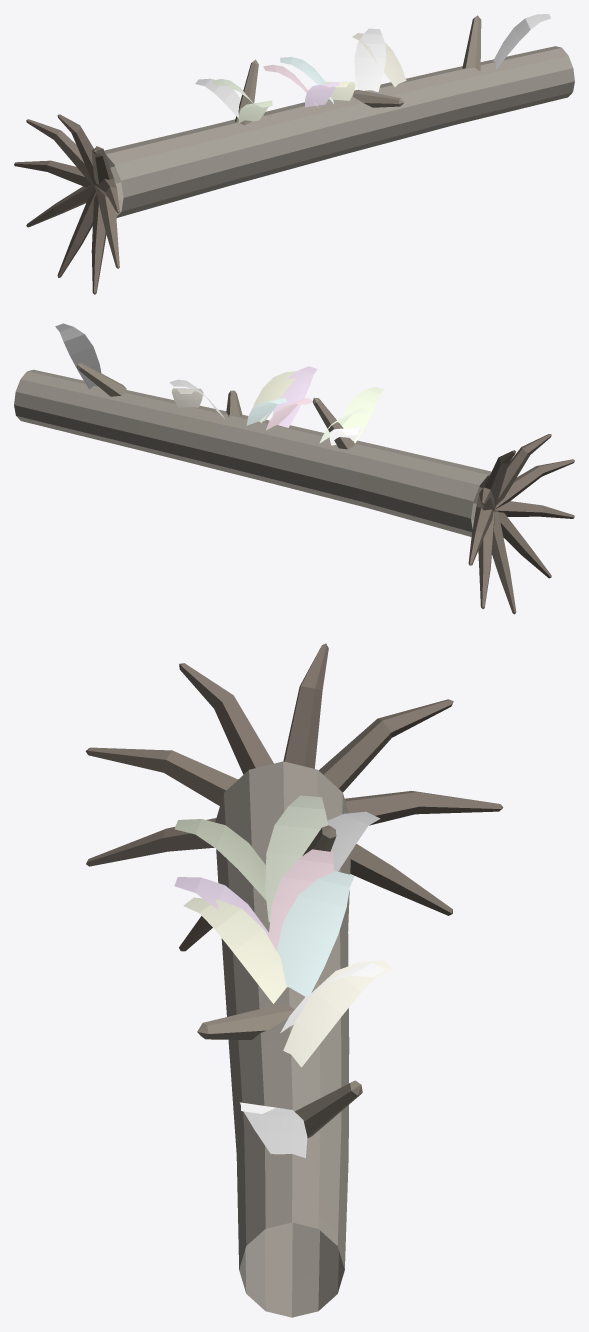
Rendered from log_0.glb.
3 renders of one model, top to bottom at view 1: azimuth 30°, elevation 25°; view 2: azimuth 150°, elevation 25°; view 3: azimuth 270°, elevation 25°, orthographic. The views are drawn at different scales.
Visible parts, largest first — view 1: log_0; view 2: log_0; view 3: log_0.
Part boxes in pixels (left/top/right/bottom): log_0: left=14, top=14, right=574, bottom=294; log_0: left=14, top=323, right=574, bottom=614; log_0: left=85, top=643, right=503, bottom=1317.
Bounding box in the file's own units: 1.08 × 0.3528 × 0.3953.
